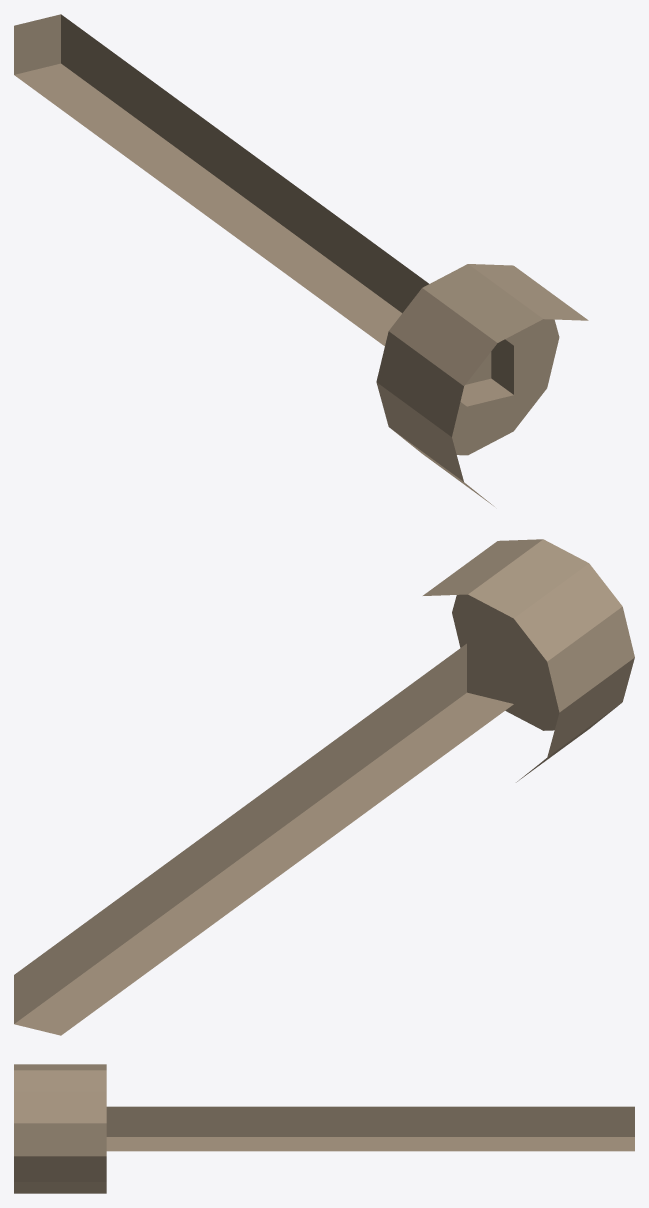
The model's file is lamp_post.glb.
3 views of the same model, one above another, from view 1: azimuth 30°, elevation 25°; view 2: azimuth 150°, elevation 25°; view 3: azimuth 270°, elevation 25° (orthographic). The views are drawn at different scales.
Visible parts, largest first — view 1: world; view 2: world; view 3: world.
Part boxes in pixels (x1,y1,x2,y2): world: (14,14,588,506); world: (14,539,634,1035); world: (14,1064,634,1193).
Bounding box in the file's own units: 0.7 × 0.7 × 3.35.
